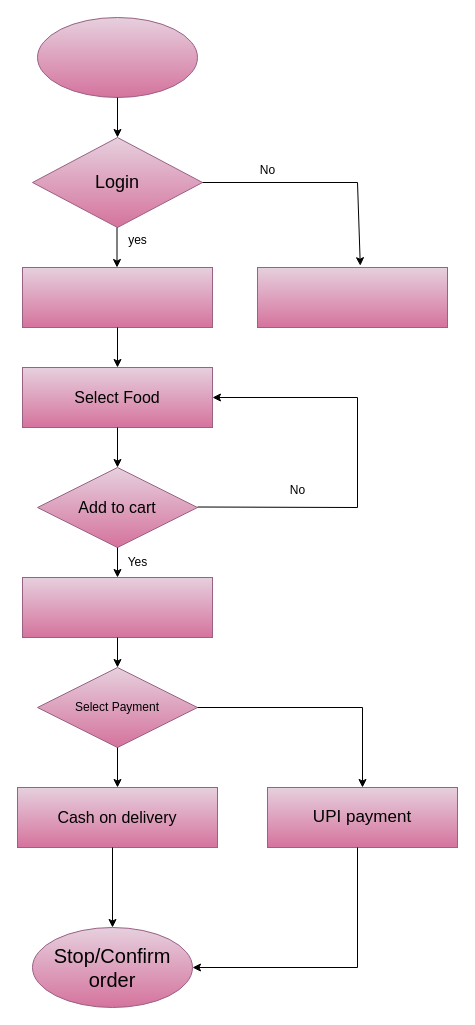
Image size: 475x1025. Some labels were removed from this diagram. The centre of each missing label's shape, as x and y in pixels:
"Back/End" goes at [352,297].
"Go to payment" goes at [117,607].
"Search Restaurant" goes at [117,297].
"Start" goes at [117,57].
